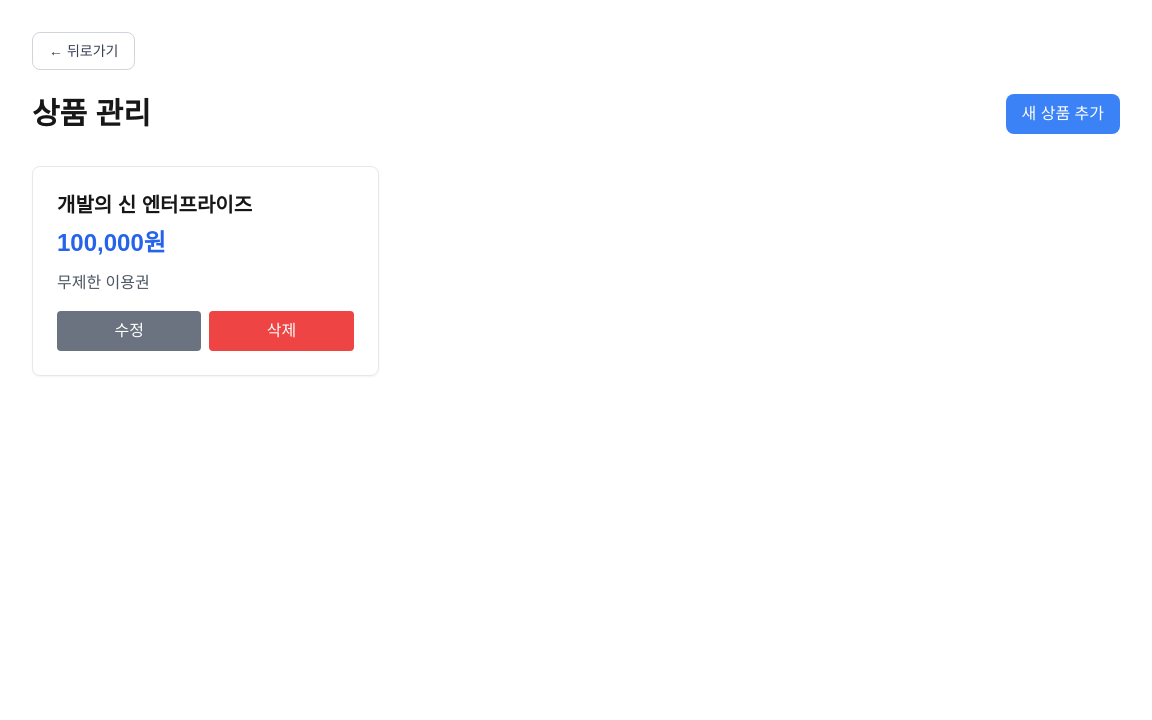
Test: 상품 관리 페이지 › 필수 항목 없이 저장 시 에러 메시지가 표시된다
The width and height of the screenshot is (1152, 720).
Click the button "새 상품 추가": (1063, 114) [1006,94,1120,134]
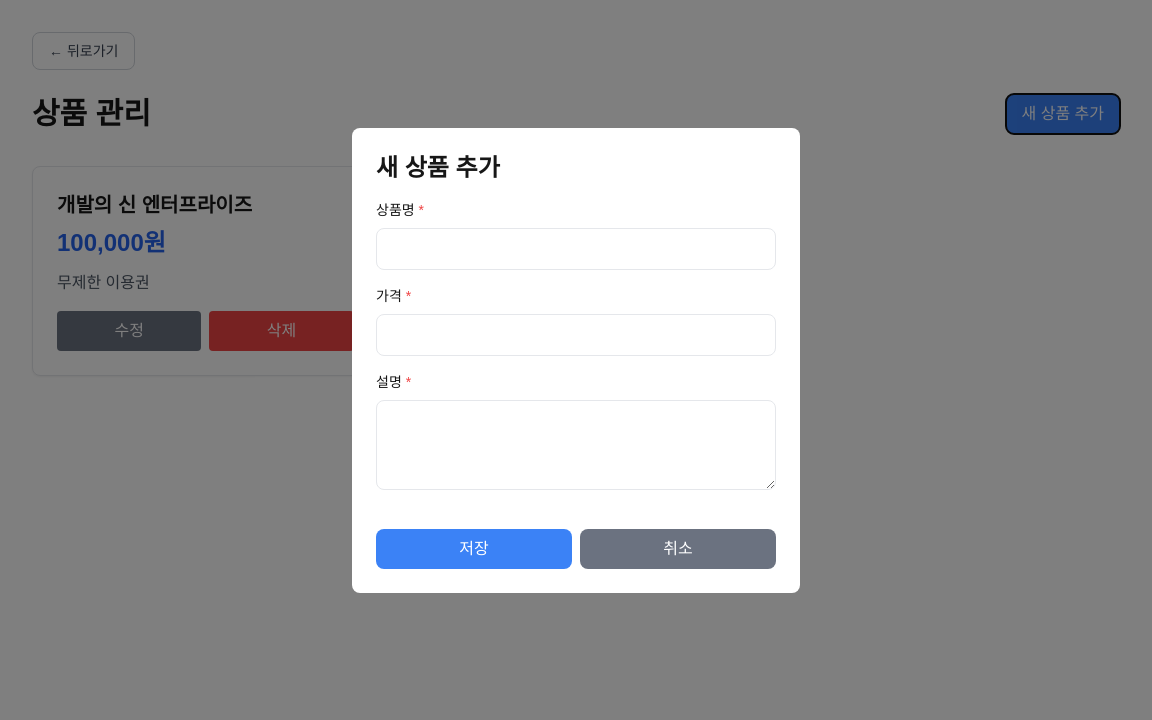
Note: 빈 폼으로 저장 시도
Click the button "저장": (474, 548) [376,528,572,568]
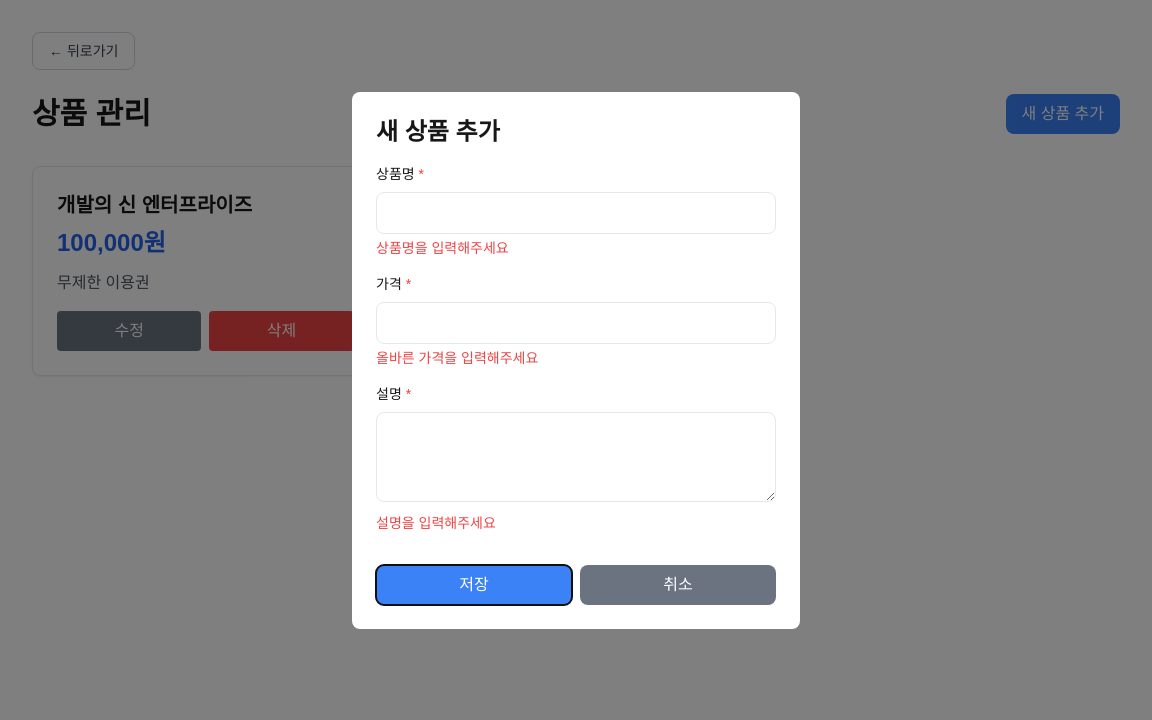
Check: the text "상품명을 입력해주세요" is shown, box [376,240,509,256]
